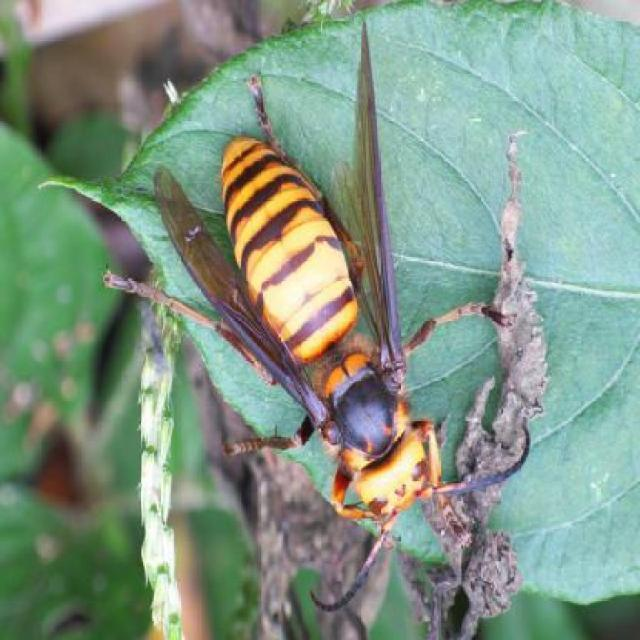Wasp: (100, 25, 536, 529)
